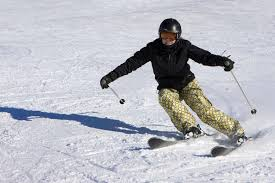skis: (145, 126, 267, 157)
